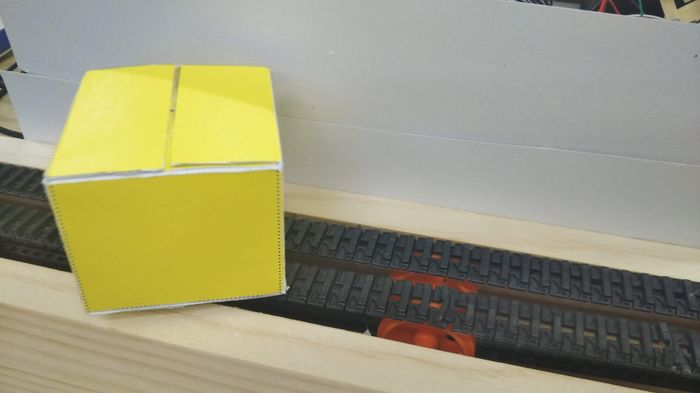box4: (37, 59, 290, 318)
